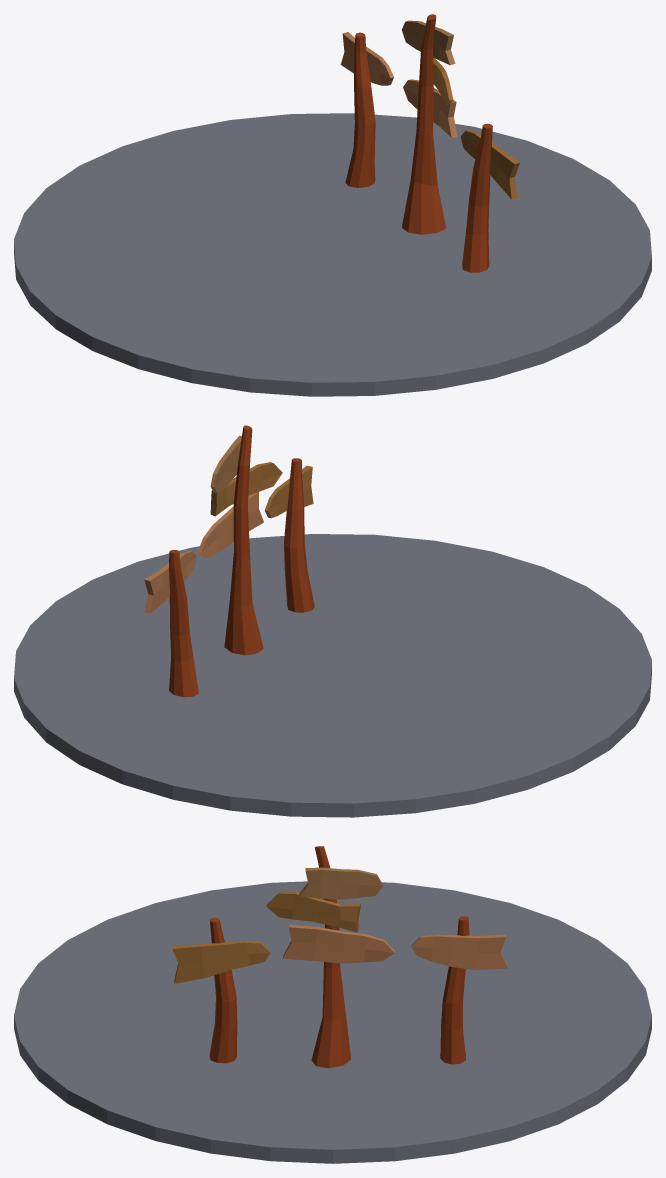
File: Signpost.fbx
3 renders of one model, top to bottom at view 1: azimuth 30°, elevation 25°; view 2: azimuth 150°, elevation 25°; view 3: azimuth 270°, elevation 25°, orthographic.
Parts seen in each view (by area): view 1: Circle, Pfoten1, Pfosten3, Pfosten2, Schild 2, Schild3, Schild, Schild1, Schild2; view 2: Circle, Pfoten1, Pfosten2, Pfosten3, Schild1, Schild2, Schild, Schild 2, Schild3; view 3: Circle, Schild1, Pfoten1, Schild 2, Schild, Pfosten2, Pfosten3, Schild2, Schild3.
Boxes of the visible parts, x1,y1,x2,y2 form: Circle: (14, 113, 651, 396); Pfoten1: (401, 14, 446, 234); Pfosten3: (345, 32, 375, 187); Pfosten2: (462, 123, 492, 272); Schild 2: (460, 130, 519, 199); Schild3: (402, 20, 455, 65); Schild: (340, 32, 393, 85); Schild1: (403, 79, 457, 137); Schild2: (433, 58, 453, 104); Circle: (14, 534, 651, 817); Pfoten1: (224, 425, 263, 655); Pfosten2: (284, 458, 314, 612); Pfosten3: (169, 550, 198, 697); Schild1: (197, 492, 263, 557); Schild2: (210, 462, 282, 516); Schild: (144, 550, 196, 613); Schild 2: (264, 465, 313, 518); Schild3: (210, 435, 241, 493); Circle: (14, 881, 651, 1163); Schild1: (282, 924, 394, 963); Pfoten1: (311, 846, 351, 1068); Schild 2: (172, 940, 270, 983); Schild: (411, 934, 507, 969); Pfosten2: (209, 917, 237, 1063); Pfosten3: (440, 916, 469, 1064); Schild2: (266, 892, 360, 932); Schild3: (299, 867, 382, 899).
Bounding box in the file's own units: 487 × 230 × 487.
